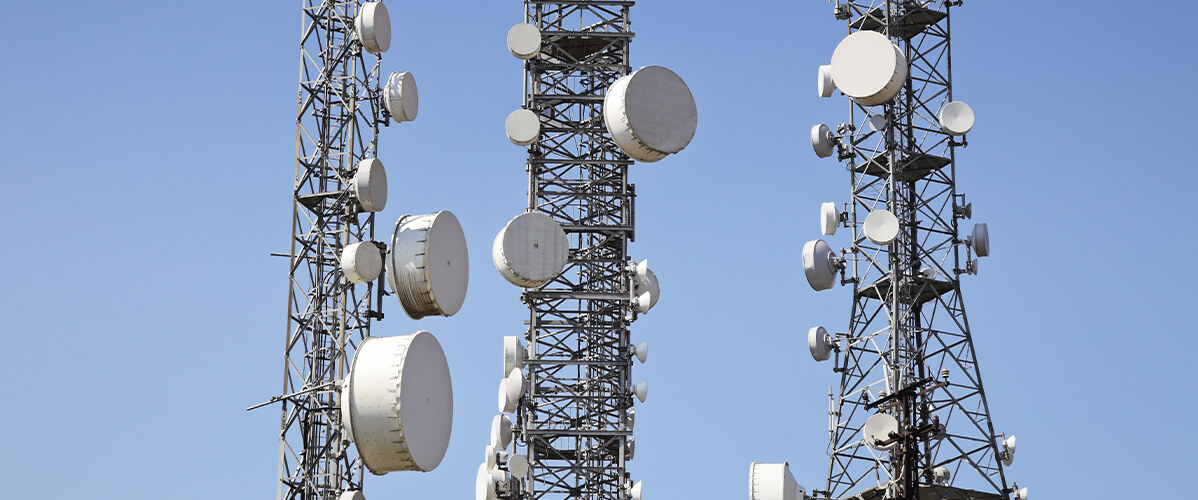ba: (350, 317, 456, 484), (593, 65, 716, 176), (392, 198, 477, 332), (821, 24, 908, 109), (492, 203, 577, 287), (731, 443, 806, 500), (341, 145, 395, 215), (854, 398, 914, 458), (855, 197, 912, 250), (799, 228, 844, 294), (927, 95, 981, 149), (493, 105, 550, 155), (333, 239, 387, 290), (374, 72, 430, 121), (354, 1, 404, 53), (496, 22, 555, 63), (804, 120, 845, 157), (960, 219, 1002, 255), (498, 333, 534, 374), (635, 254, 661, 310), (475, 450, 502, 500)
